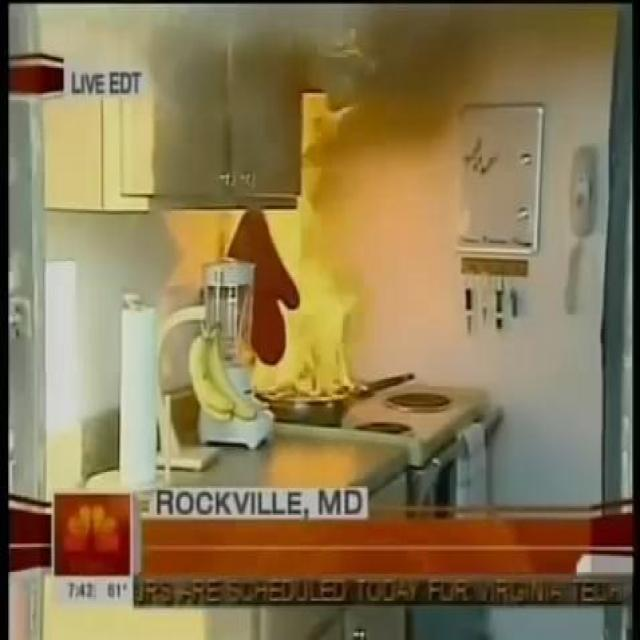fire: (272, 89, 372, 449)
